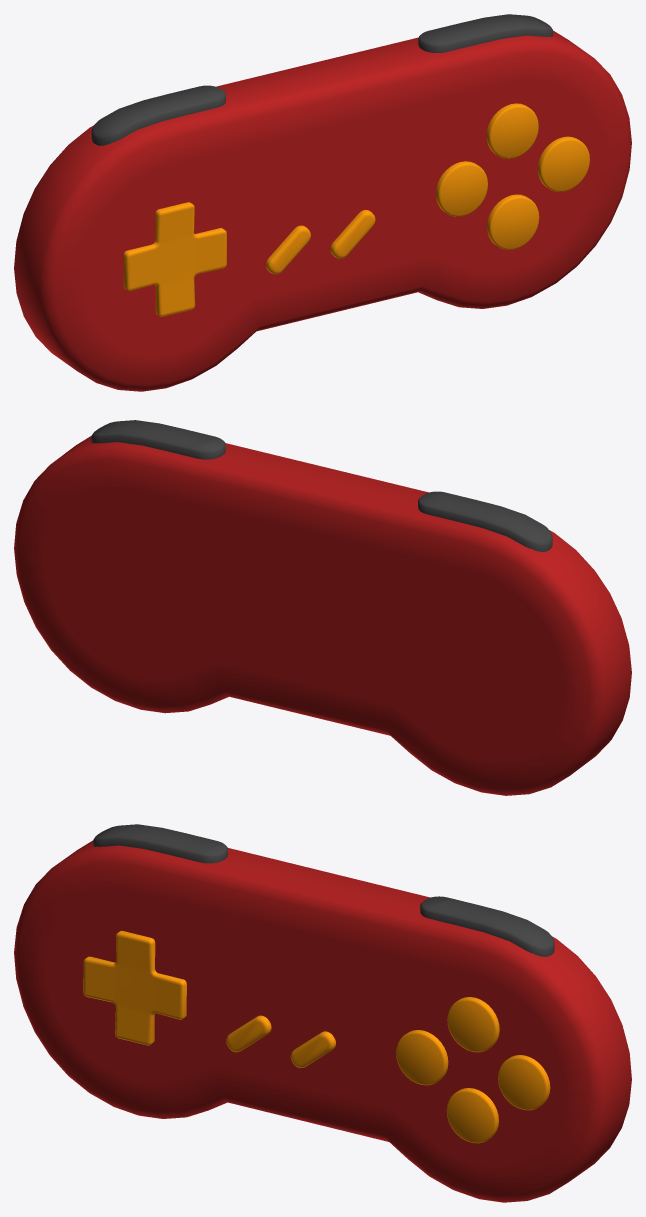
File: nintendo.fbx
3 renders of one model, top to bottom at view 1: azimuth 30°, elevation 25°; view 2: azimuth 150°, elevation 25°; view 3: azimuth 330°, elevation 25°, orthographic.
Visible parts, largest first — view 1: nintendo; view 2: nintendo; view 3: nintendo.
Boxes of the visible parts, x1,y1,x2,y2 form: nintendo: (14, 14, 631, 391); nintendo: (14, 420, 631, 795); nintendo: (14, 824, 631, 1202).
Size of the model in its own units: 92.87 by 40.85 by 11.42.
